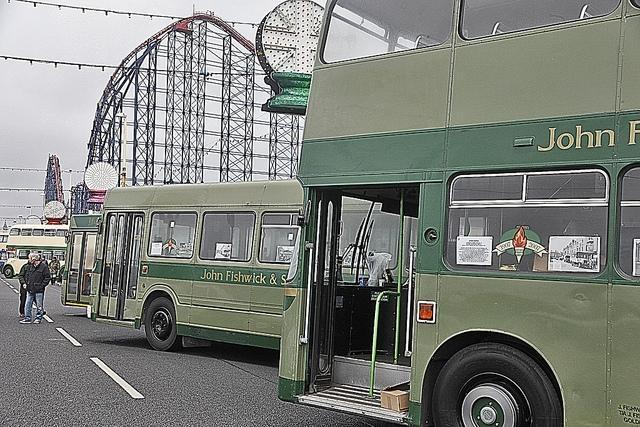bus: (276, 1, 640, 422), (82, 175, 308, 354), (2, 224, 70, 278), (60, 214, 97, 308)
